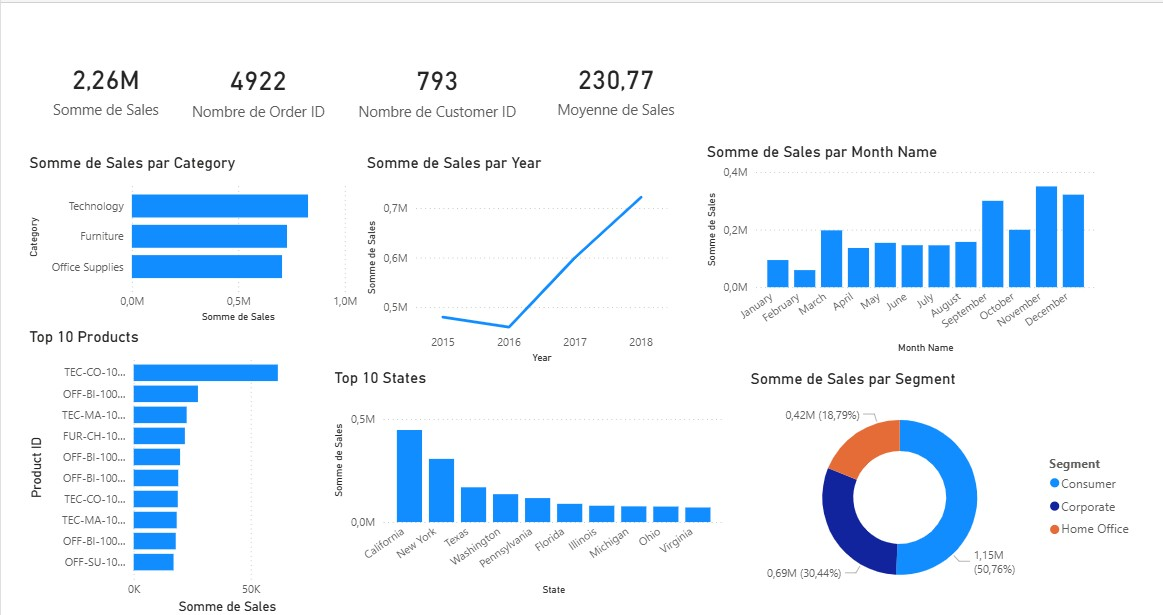

What the dashboard file says about the page in this screenshot:
{"tool":"powerbi","page":{"name":"Page 1","canvas":[1280,720],"ordinal":0},"visuals":[{"type":"card","fields":{"Values":["Sum(ecommerce_cleaned.Sales)"]},"box":[26.1,79.6,178.4,116.6],"z":0},{"type":"card","fields":{"Values":["Avg(ecommerce_cleaned.Sales)"]},"box":[580.4,83.7,189.4,108.4],"z":1},{"type":"card","fields":{"Values":["Count(ecommerce_cleaned.Order ID)"]},"box":[188,81,189.4,116.6],"z":2},{"type":"card","fields":{"Values":["Count(ecommerce_cleaned.Customer ID)"]},"box":[377.4,87.8,203.1,102.9],"z":3},{"type":"barChart","fields":{"Category":["ecommerce_cleaned.Category"],"Y":["Sum(ecommerce_cleaned.Sales)"]},"box":[26.1,209.9,370.5,190.7],"z":4},{"type":"columnChart","fields":{"Category":["ecommerce_cleaned.Month Name"],"Y":["Sum(ecommerce_cleaned.Sales)"]},"box":[769.8,197.6,436.4,237.4],"z":5},{"type":"lineChart","fields":{"Category":["ecommerce_cleaned.Year"],"Y":["Sum(ecommerce_cleaned.Sales)"]},"box":[396.6,209.9,340.3,236],"z":6},{"type":"columnChart","title":"Top 10 States","fields":{"Category":["ecommerce_cleaned.State"],"Y":["Sum(ecommerce_cleaned.Sales)"]},"box":[360.9,446,437.7,253.9],"z":7},{"type":"barChart","title":"Top 10 Products","fields":{"Category":["ecommerce_cleaned.Product ID"],"Y":["Sum(ecommerce_cleaned.Sales)"]},"box":[26.1,400.7,340.3,319.7],"z":8},{"type":"donutChart","fields":{"Category":["ecommerce_cleaned.Segment"],"Y":["Sum(ecommerce_cleaned.Sales)"]},"box":[817.8,447.3,435,262.1],"z":9}]}

Visuals, with their boxes on the page's 1280x720 design canvas (x1, y1, x2, y2). These are canvas units, not pixel positions in the 1163x615 screenshot, which may show the page scaled, cropped or inside an application window:
card - Sum(ecommerce_cleaned.Sales): x1=26 y1=80 x2=204 y2=196
card - Avg(ecommerce_cleaned.Sales): x1=580 y1=84 x2=770 y2=192
card - Count(ecommerce_cleaned.Order ID): x1=188 y1=81 x2=377 y2=198
card - Count(ecommerce_cleaned.Customer ID): x1=377 y1=88 x2=580 y2=191
barChart - ecommerce_cleaned.Category x Sum(ecommerce_cleaned.Sales): x1=26 y1=210 x2=397 y2=401
columnChart - ecommerce_cleaned.Month Name x Sum(ecommerce_cleaned.Sales): x1=770 y1=198 x2=1206 y2=435
lineChart - ecommerce_cleaned.Year x Sum(ecommerce_cleaned.Sales): x1=397 y1=210 x2=737 y2=446
"Top 10 States" columnChart: x1=361 y1=446 x2=799 y2=700
"Top 10 Products" barChart: x1=26 y1=401 x2=366 y2=720
donutChart - ecommerce_cleaned.Segment x Sum(ecommerce_cleaned.Sales): x1=818 y1=447 x2=1253 y2=709
